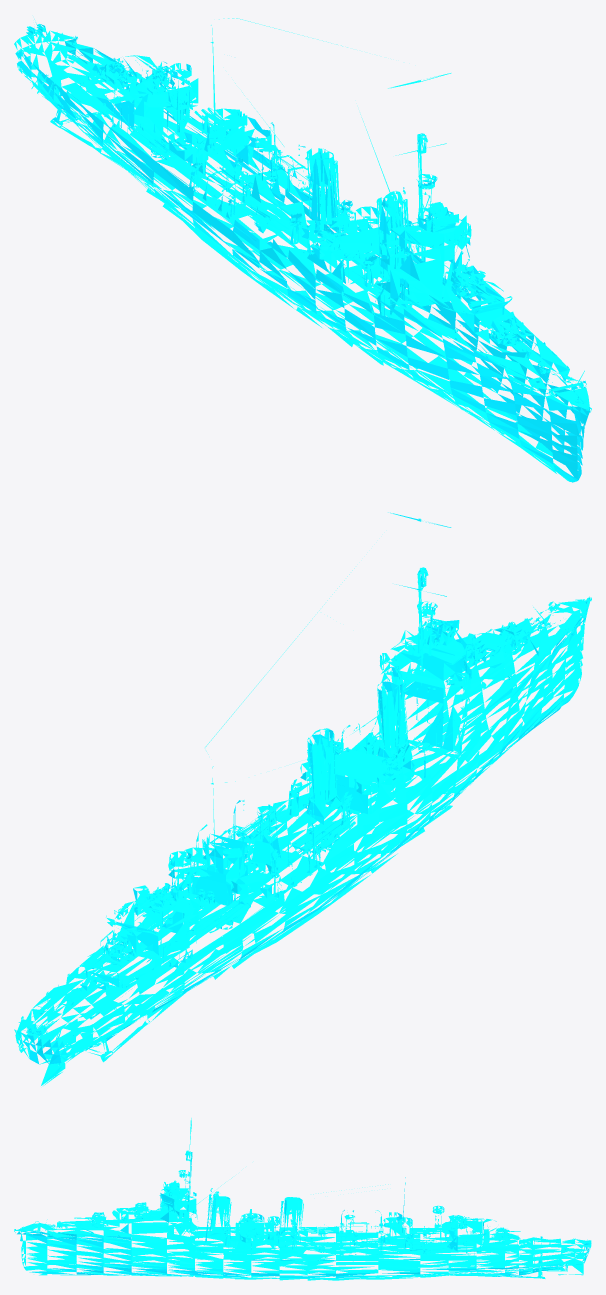
Rendered from PASD014.glb.
3 views of the same model, one above another, from view 1: azimuth 30°, elevation 25°; view 2: azimuth 150°, elevation 25°; view 3: azimuth 270°, elevation 25° (orthographic). The views are drawn at different scales.
Visible parts, largest first — view 1: hull_mid, secondary_battery, torpedo, hull_body, superstructure; view 2: hull_mid, torpedo, secondary_battery, superstructure, hull_body; view 3: hull_mid, torpedo, secondary_battery, hull_body.
Boxes of the visible parts, x1=… form: hull_mid: x1=14, y1=18, x2=591, y2=482; secondary_battery: x1=95, y1=51, x2=532, y2=346; torpedo: x1=128, y1=107, x2=354, y2=232; hull_body: x1=450, y1=264, x2=526, y2=344; superstructure: x1=418, y1=202, x2=458, y2=233; hull_mid: x1=14, y1=512, x2=591, y2=1085; torpedo: x1=128, y1=803, x2=355, y2=933; secondary_battery: x1=95, y1=617, x2=532, y2=966; superstructure: x1=417, y1=615, x2=459, y2=647; hull_body: x1=456, y1=621, x2=527, y2=664; hull_mid: x1=14, y1=1118, x2=591, y2=1280; torpedo: x1=298, y1=1224, x2=450, y2=1252; secondary_battery: x1=74, y1=1205, x2=520, y2=1241; hull_body: x1=88, y1=1202, x2=147, y2=1226.
Bounding box in the file's own units: 0.7832 × 2.22 × 7.49.
